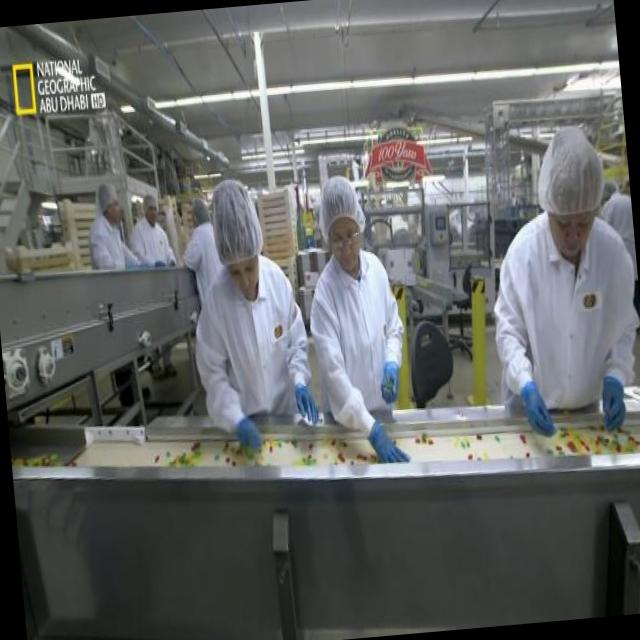hairnet: (537, 132, 606, 219), (207, 177, 264, 260), (311, 174, 366, 234), (93, 183, 117, 211), (193, 197, 210, 223), (141, 192, 158, 213)
